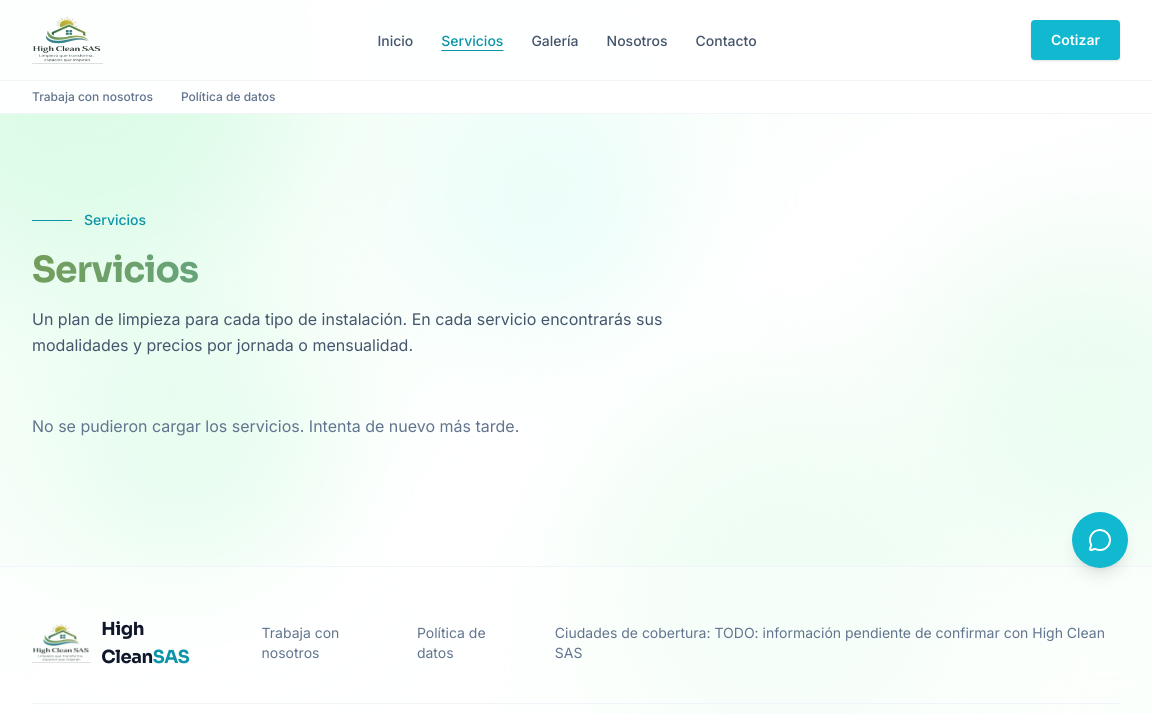
Scenario: App › navega a la página de contacto
Click the link "Contacto": {"x": 726, "y": 40} 696,32 -> 757,49
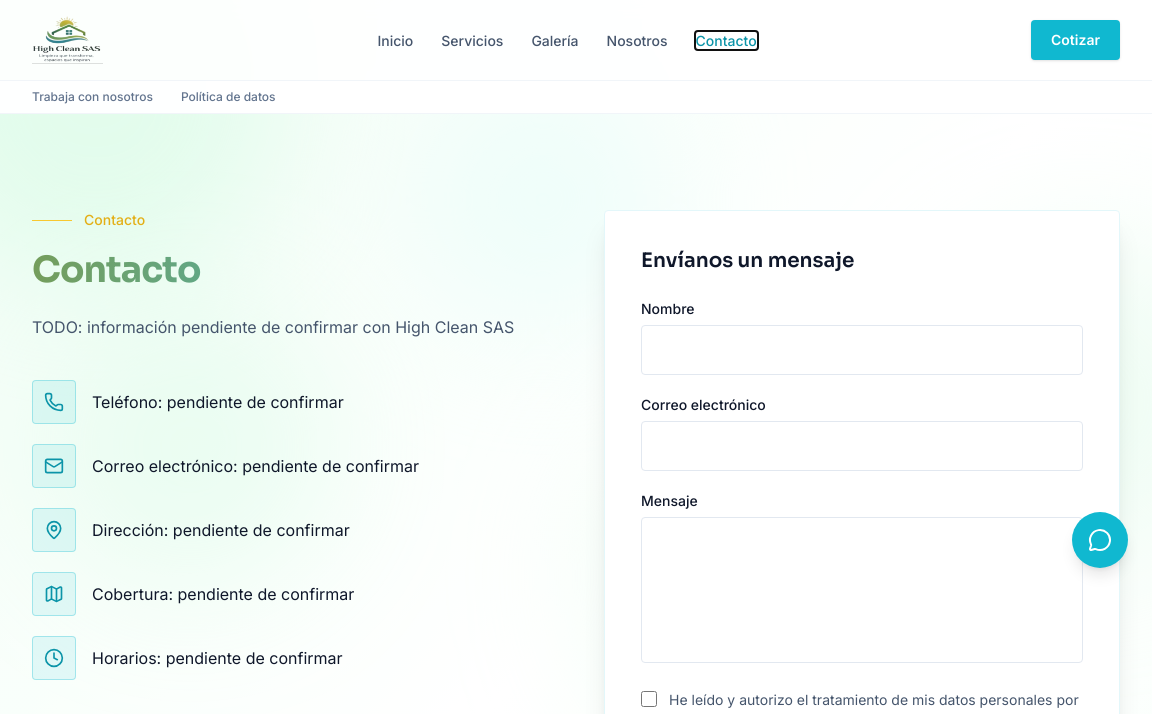
expect the heading "Contacto" is shown: met, box 32,250 -> 548,290
